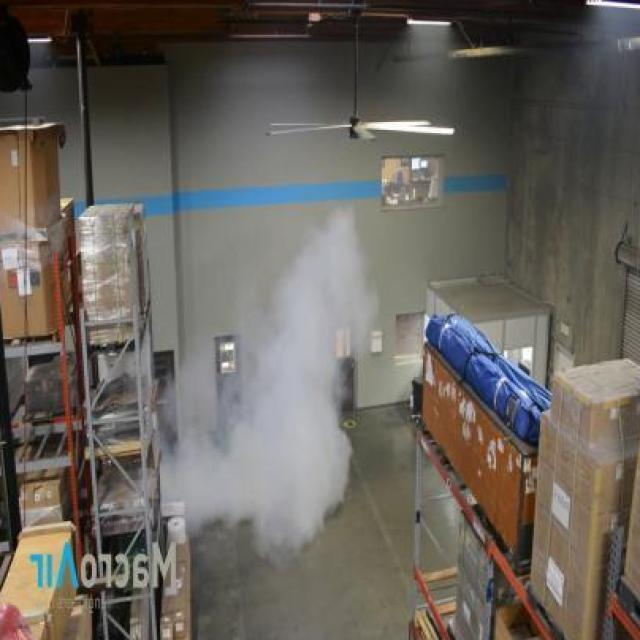fire: (188, 201, 384, 566)
